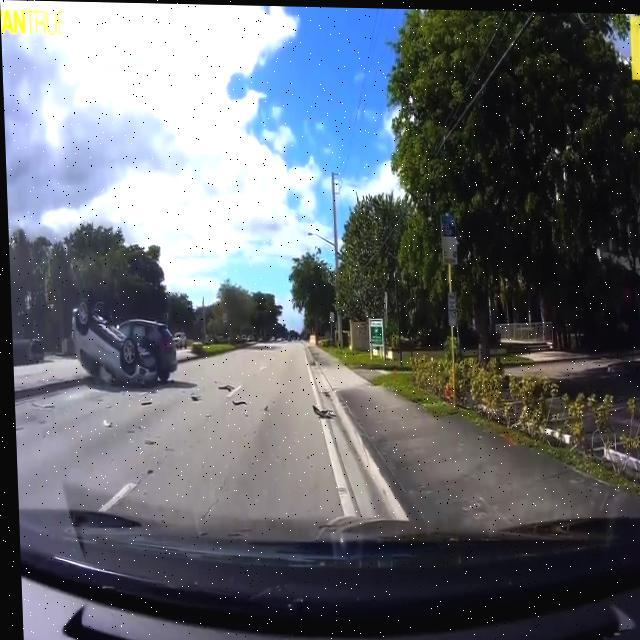multiple_accident: (55, 257, 200, 407)
